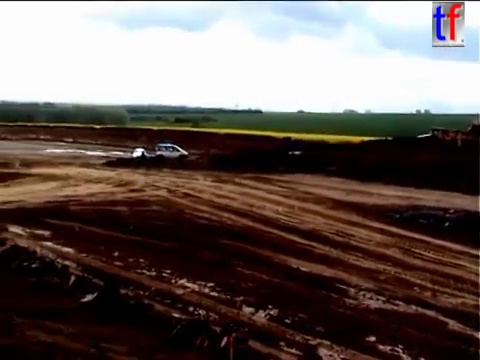excavator: (427, 118, 480, 156)
